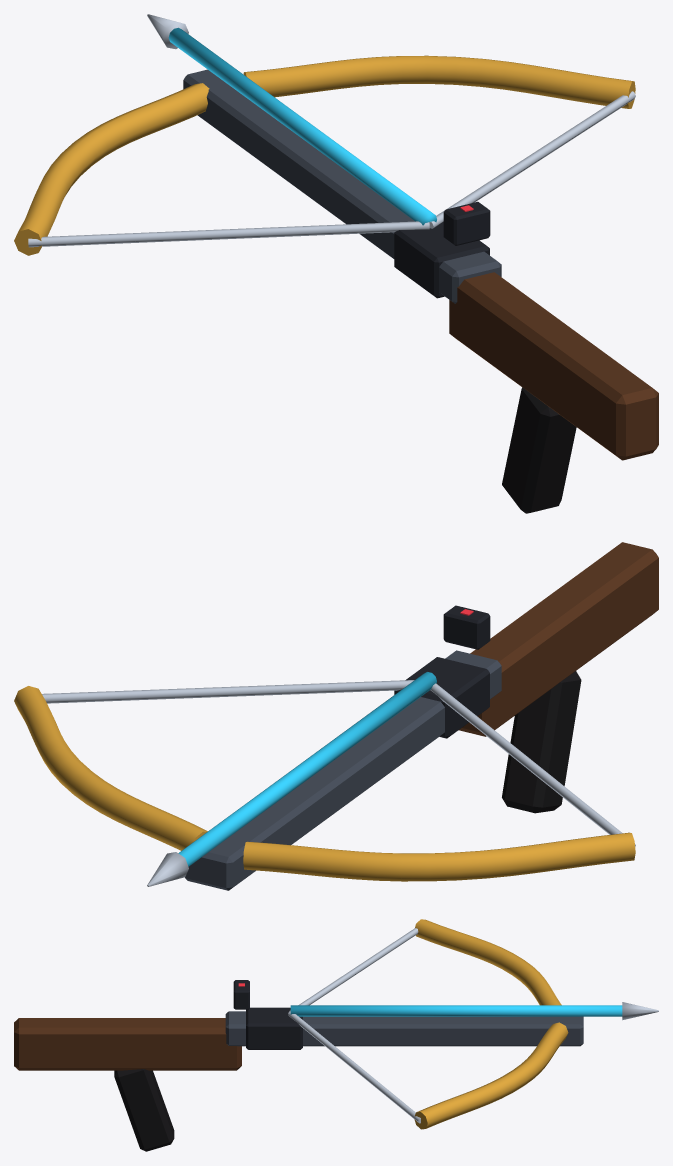
Rendered from office_crossbow.obj.
The picture shows the model from 3 angles, top to bottom: view 1: azimuth 30°, elevation 25°; view 2: azimuth 150°, elevation 25°; view 3: azimuth 270°, elevation 25°; orthographic projection. The views are drawn at different scales.
Parts seen in each view (by area): view 1: Stock, Track, LimbR, LimbL, Grip, BoltShaft, StringL, TapeWrap, StringR, Sight; view 2: Stock, Track, LimbL, LimbR, Grip, BoltShaft, StringR, TapeWrap, StringL, Sight, BoltTip; view 3: Stock, Track, BoltShaft, LimbR, Grip, LimbL, TapeWrap, StringR, StringL, Sight, BoltTip.
Part boxes in pixels (x1=…): Stock: x1=449, y1=272, x2=658, y2=460; Track: x1=183, y1=69, x2=501, y2=303; LimbR: x1=243, y1=55, x2=635, y2=108; LimbL: x1=14, y1=83, x2=209, y2=255; Grip: x1=502, y1=387, x2=576, y2=513; BoltShaft: x1=168, y1=27, x2=436, y2=225; StringL: x1=28, y1=221, x2=429, y2=247; TapeWrap: x1=394, y1=221, x2=489, y2=298; StringR: x1=429, y1=91, x2=635, y2=228; Sight: x1=443, y1=201, x2=490, y2=245; Stock: x1=459, y1=542, x2=658, y2=736; Track: x1=185, y1=650, x2=501, y2=890; LimbL: x1=243, y1=832, x2=635, y2=881; LimbR: x1=14, y1=686, x2=207, y2=850; Grip: x1=502, y1=671, x2=581, y2=813; BoltShaft: x1=178, y1=672, x2=436, y2=866; StringR: x1=42, y1=680, x2=414, y2=703; TapeWrap: x1=394, y1=657, x2=489, y2=738; StringL: x1=430, y1=683, x2=635, y2=846; Sight: x1=443, y1=605, x2=490, y2=649; BoltTip: x1=147, y1=852, x2=188, y2=886; Stock: x1=14, y1=1018, x2=241, y2=1070; Track: x1=225, y1=1011, x2=583, y2=1046; BoltShaft: x1=290, y1=1005, x2=622, y2=1016; LimbR: x1=414, y1=1022, x2=568, y2=1129; Grip: x1=114, y1=1069, x2=174, y2=1151; LimbL: x1=415, y1=919, x2=561, y2=1005; TapeWrap: x1=246, y1=1007, x2=302, y2=1049; StringR: x1=288, y1=1011, x2=420, y2=1123; StringL: x1=288, y1=928, x2=418, y2=1013; Sight: x1=233, y1=980, x2=249, y2=1009; BoltTip: x1=622, y1=1002, x2=658, y2=1020.
Bounding box in the file's own units: 0.577 × 0.2206 × 0.7925.
